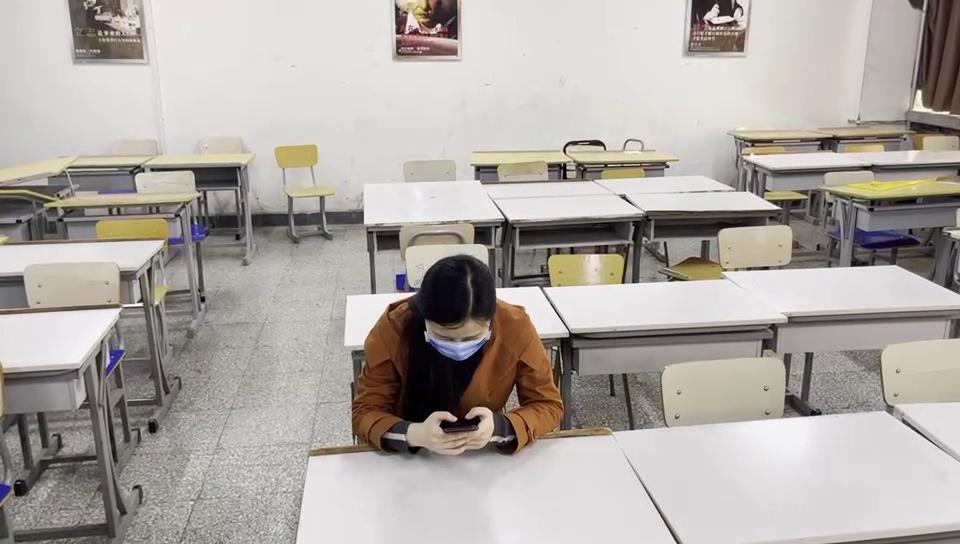phone: (350, 254, 566, 458)
